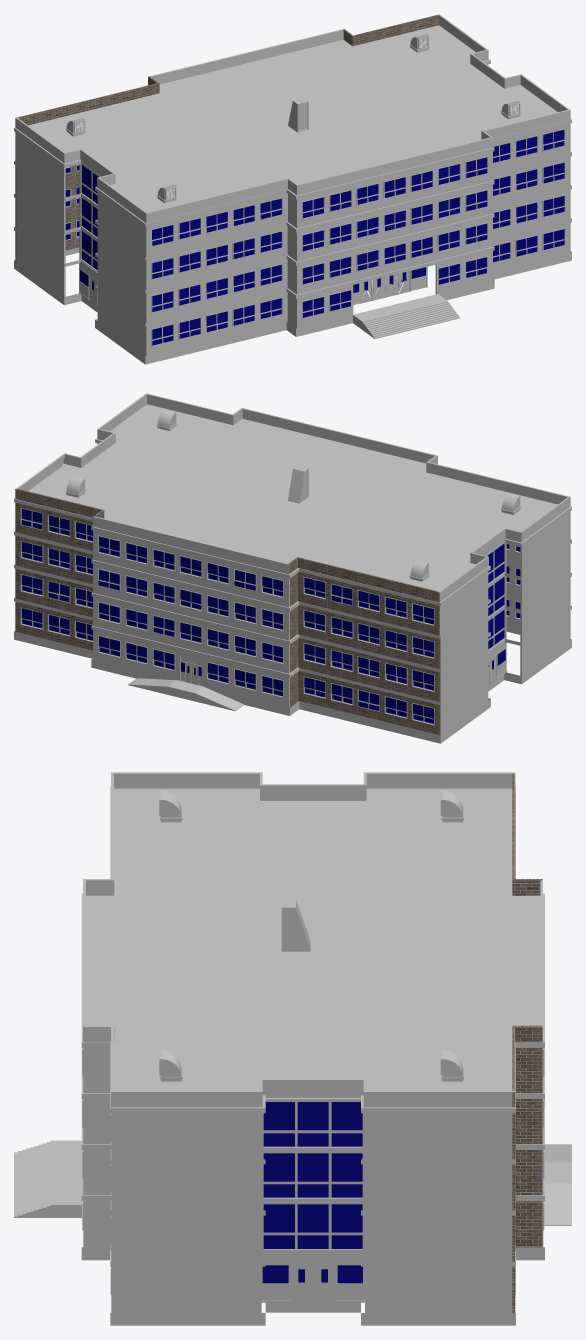
The model's file is Scooled.fbx.
The picture shows the model from 3 angles, top to bottom: view 1: azimuth 30°, elevation 25°; view 2: azimuth 150°, elevation 25°; view 3: azimuth 270°, elevation 25°; orthographic projection. The views are drawn at different scales.
Parts seen in each view (by area): view 1: highschool_74207.Shape; view 2: highschool_74207.Shape; view 3: highschool_74207.Shape.
Part boxes in pixels (<box>): highschool_74207.Shape: <box>14,14,571,364</box>; highschool_74207.Shape: <box>14,393,571,743</box>; highschool_74207.Shape: <box>14,772,571,1325</box>.
Size of the model in its own units: 10422 by 3951 by 7643.
